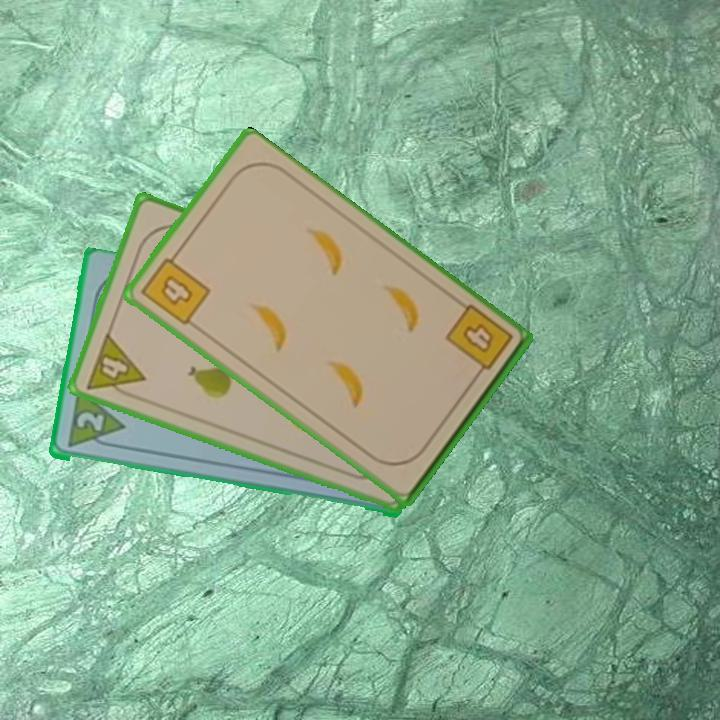2p: (72, 408, 107, 435)
4b: (137, 247, 214, 329), (441, 301, 516, 384)
4p: (82, 329, 148, 403)
